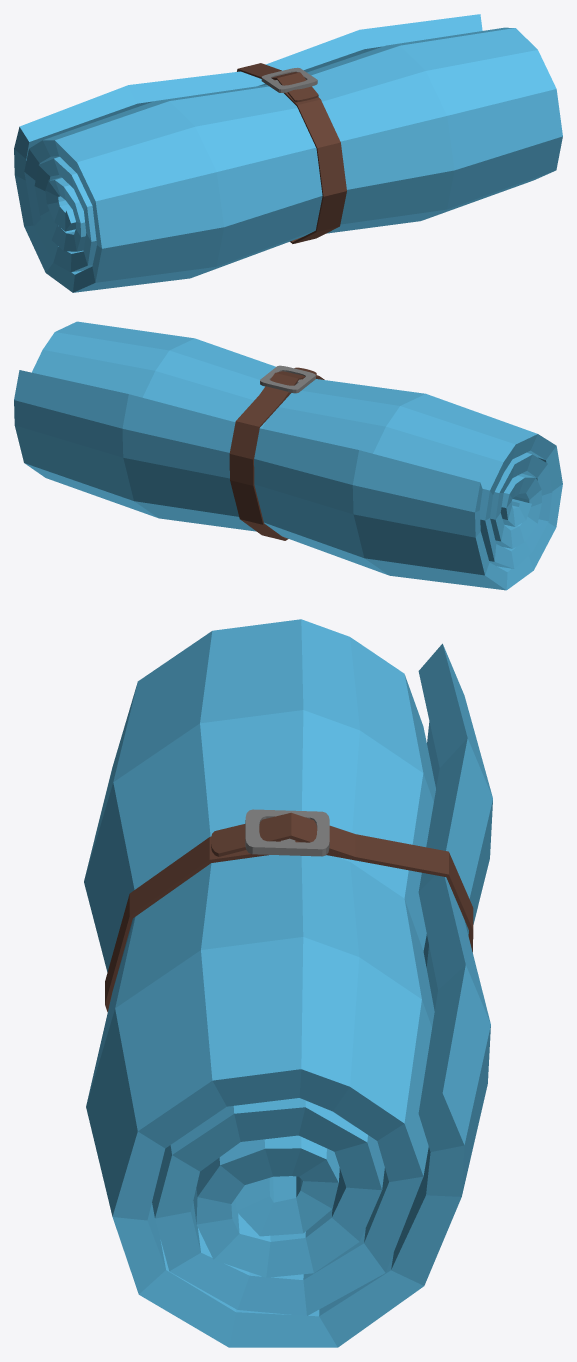
The model's file is Sleeping Bag.glb.
3 views of the same model, one above another, from view 1: azimuth 30°, elevation 25°; view 2: azimuth 150°, elevation 25°; view 3: azimuth 270°, elevation 25° (orthographic). The views are drawn at different scales.
Visible parts, largest first — view 1: Sleeping Bag Rolled, Sleeping Bag Clamp; view 2: Sleeping Bag Rolled, Sleeping Bag Clamp; view 3: Sleeping Bag Rolled, Sleeping Bag Clamp.
Boxes of the visible parts, x1=… form: Sleeping Bag Rolled: x1=14, y1=14, x2=562, y2=292; Sleeping Bag Clamp: x1=237, y1=63, x2=346, y2=243; Sleeping Bag Rolled: x1=14, y1=321, x2=562, y2=590; Sleeping Bag Clamp: x1=229, y1=365, x2=324, y2=540; Sleeping Bag Rolled: x1=84, y1=619, x2=492, y2=1347; Sleeping Bag Clamp: x1=105, y1=809, x2=473, y2=1011.
Bounding box in the file's own units: 2 × 0.6715 × 0.7689.
1 material, 1 textured.
